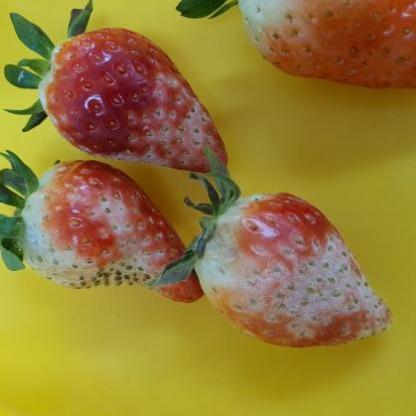Strawberry_Powdery_Mildew_Fruit: (193, 192, 393, 348), (37, 26, 231, 173), (16, 160, 205, 304)
